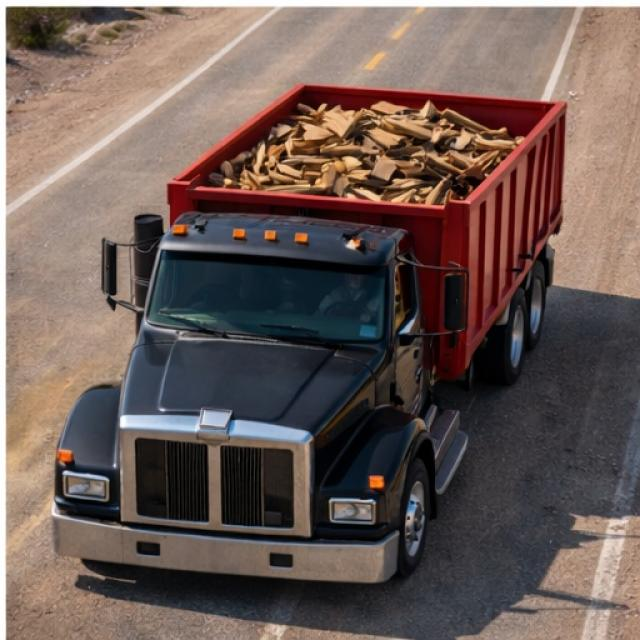Box: (169, 83, 569, 209)
Truck: (42, 72, 578, 578)
